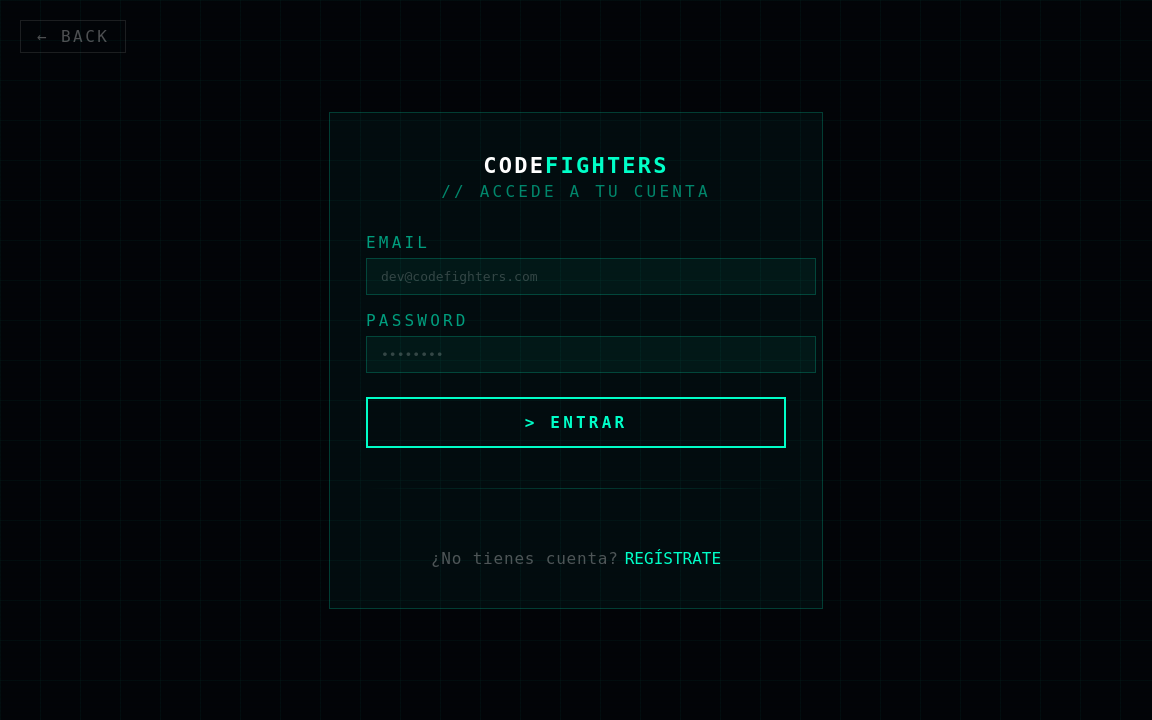
AuthUI › cambia a modo register al hacer toggle
This screenshot has width=1152, height=720.
Step 1. Click the button "REGÍSTRATE" → (673, 558), box [625,548,721,568]
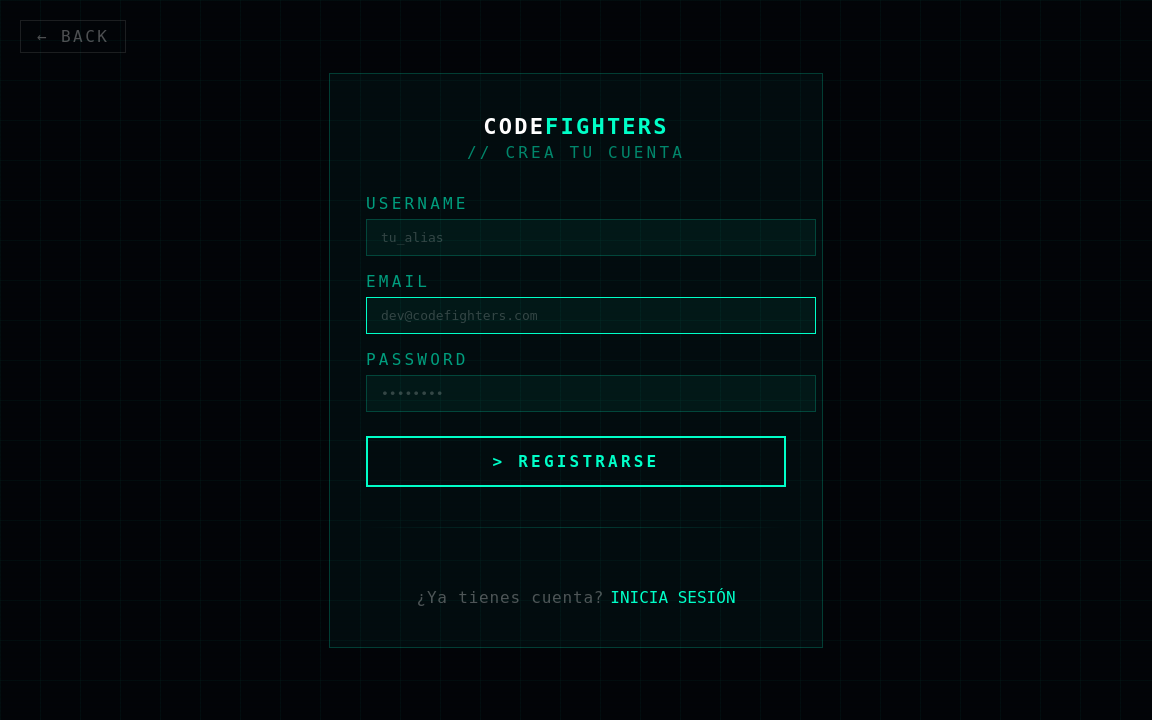
Now the text "// CREA TU CUENTA" is shown, box [467,142,685,162]
